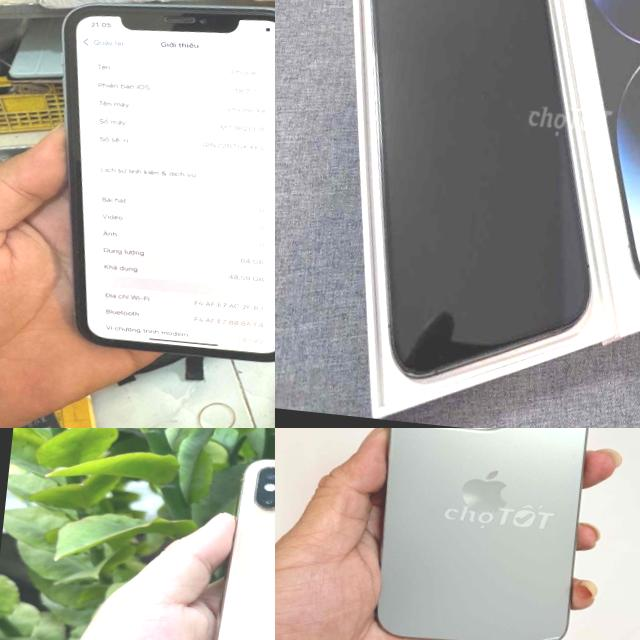gen_14: (312, 0, 637, 393)
gen_15: (337, 428, 619, 640)
gen_x_xs: (16, 0, 275, 370)
physical_damage: (518, 621, 566, 640)
